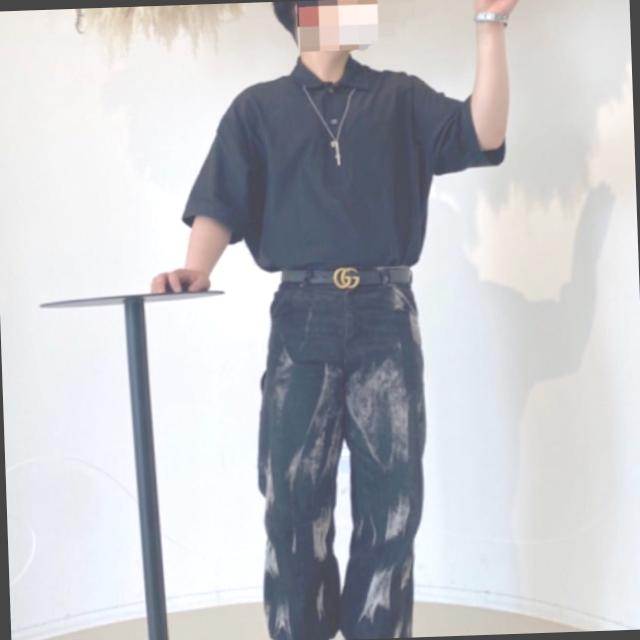denimpants: (250, 266, 428, 640)
shortsleeve: (178, 47, 512, 276)
